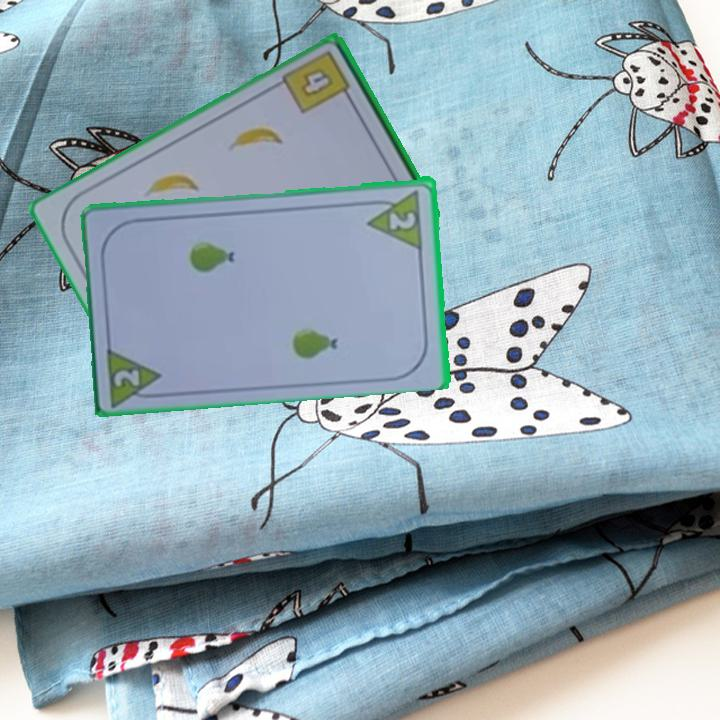2p: (103, 342, 168, 407), (363, 185, 426, 250)
4b: (279, 47, 357, 117)
